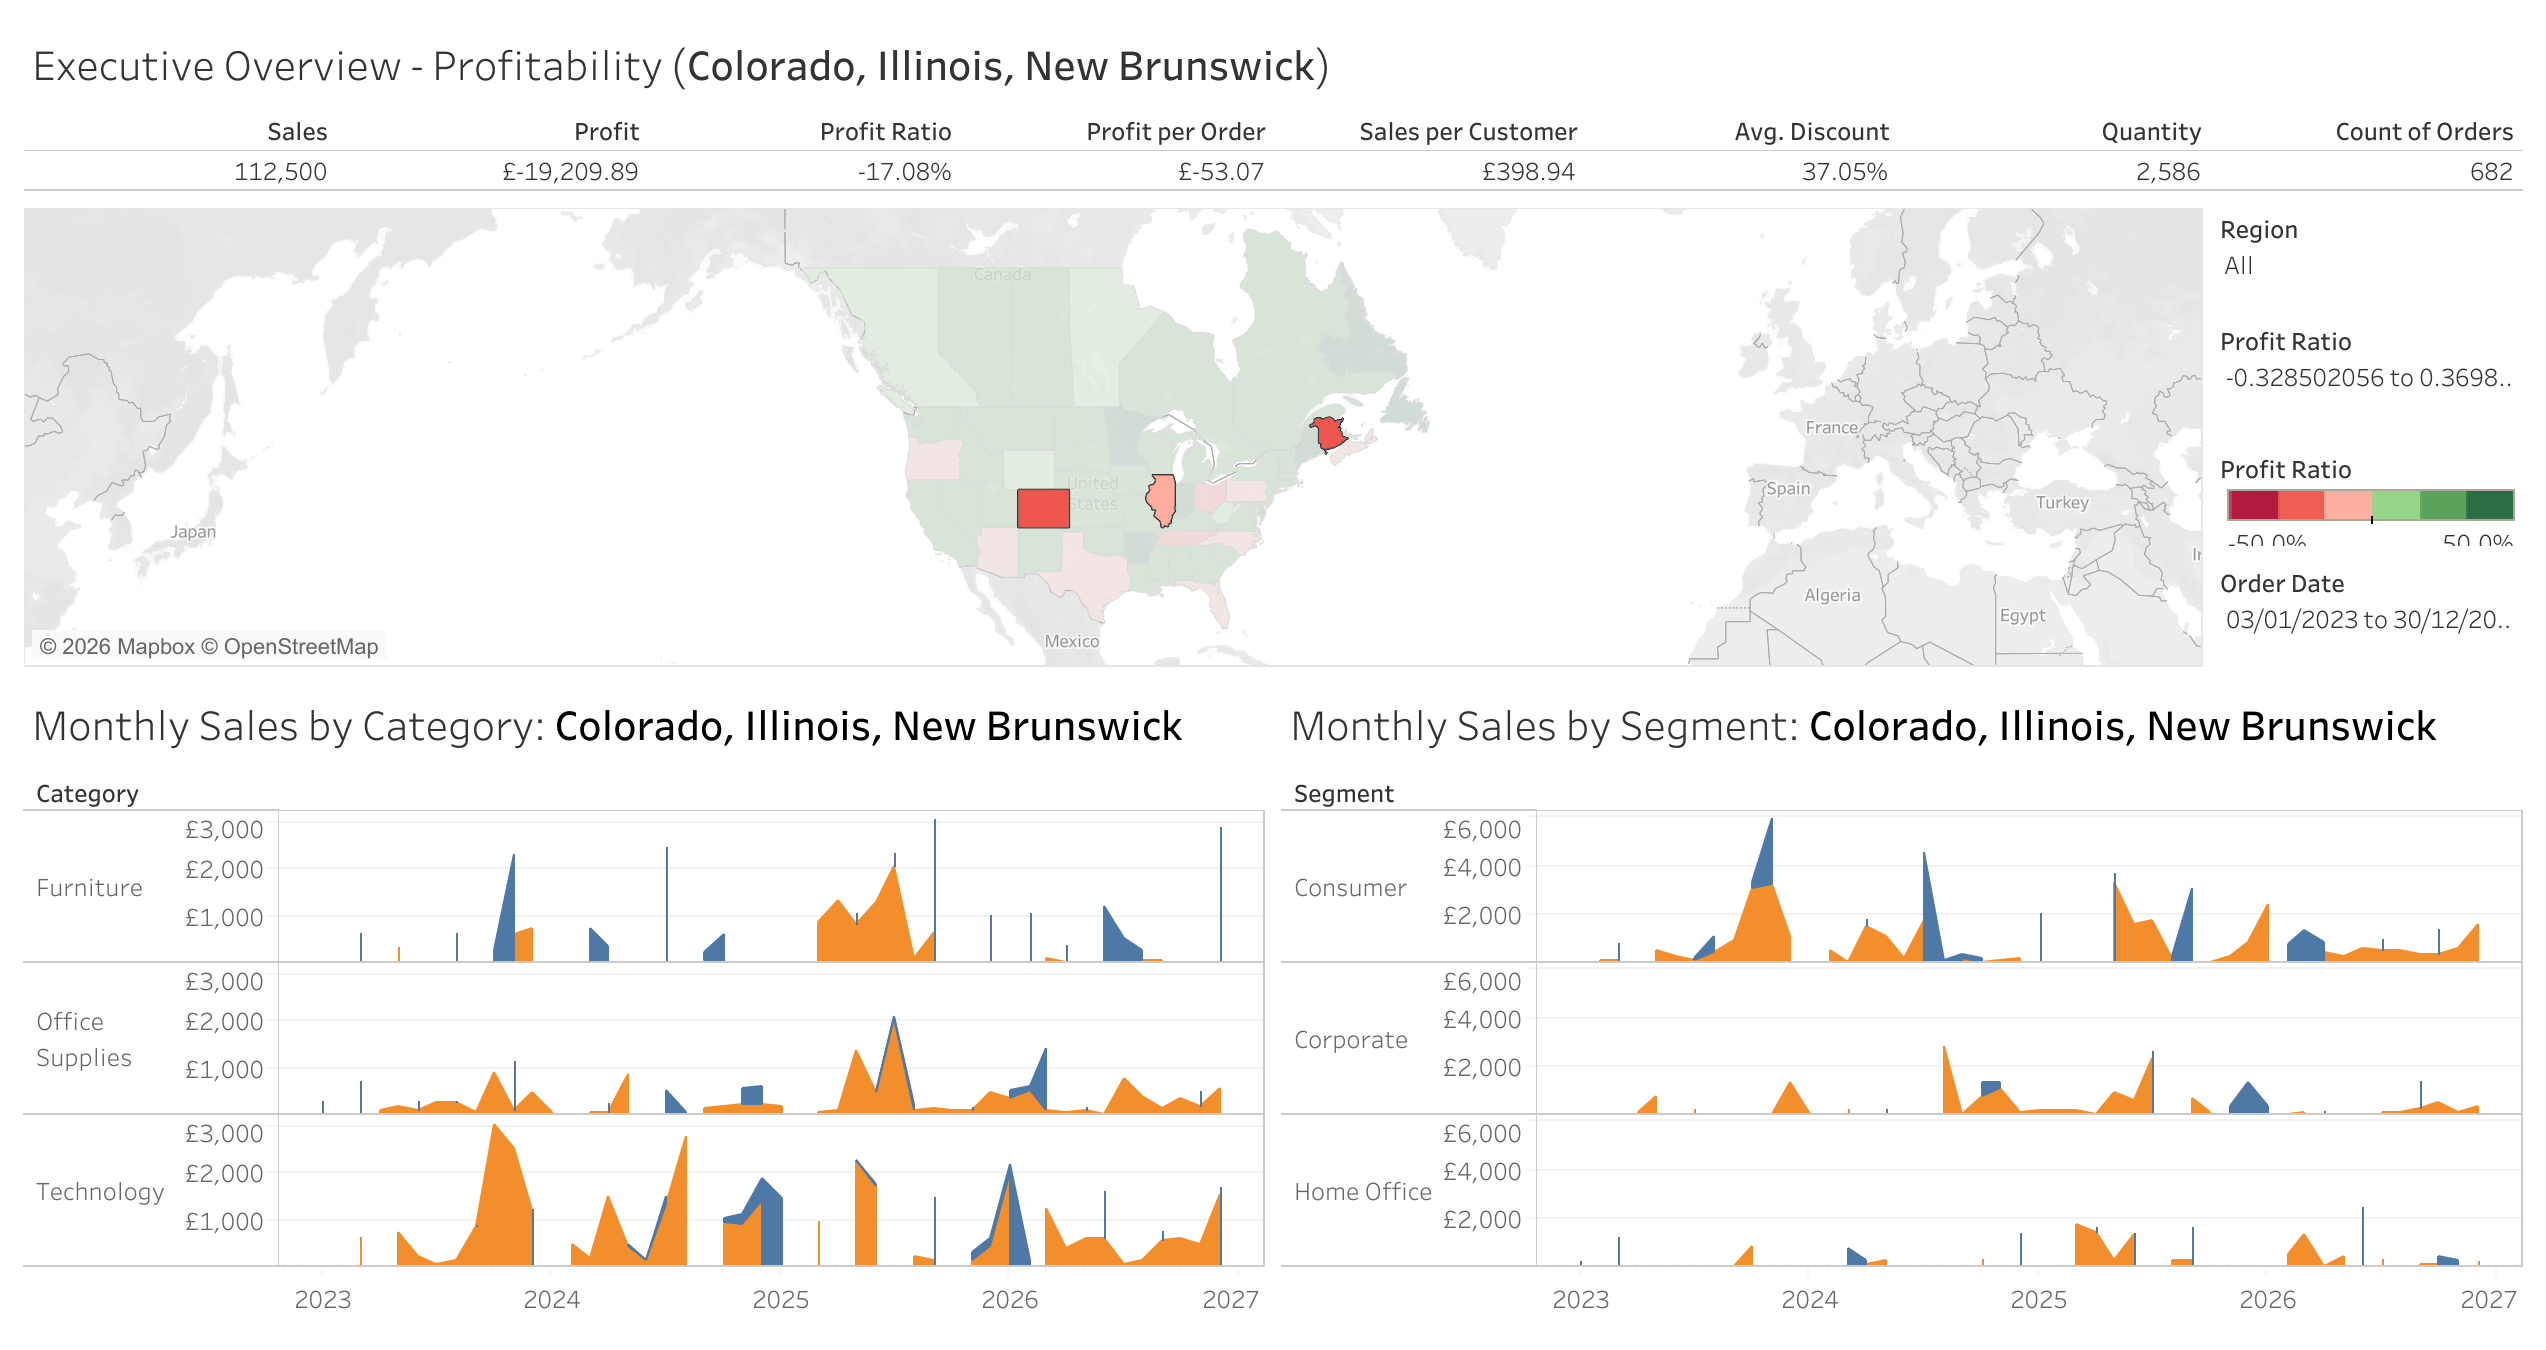

This screenshot's page, from the dashboard's own definition file:
{"tool":"tableau","page":{"name":"Executive Overview","canvas":[1000,1000],"units":"permille","ordinal":0},"visuals":[{"type":"worksheet","title":"Key Performance Indicators","mark":"Automatic","box":[6.6,11.8,986.8,135.1]},{"type":"worksheet","title":"Profit Ratio by Geography","mark":"Automatic","box":[6.6,146.8,854.4,353.2]},{"type":"filter","title":"Profit Ratio by Geography","param":"[federated.1xrb1ig0scf6ov1fjsrsw0xfbv0v].[none:Region:nk]","box":[861,146.8,132.3,82.2]},{"type":"filter","title":"Profit Ratio by Geography","param":"[federated.1xrb1ig0scf6ov1fjsrsw0xfbv0v].[usr:Calculation_0014784156213293:qk]","box":[861,229.1,132.3,90.3]},{"type":"legend","title":"Profit Ratio by Geography","param":"[federated.1xrb1ig0scf6ov1fjsrsw0xfbv0v].[usr:Calculation_0014784156213293:qk]","box":[861,319.4,132.3,90.3]},{"type":"filter","title":"Sales by Category","param":"[federated.1xrb1ig0scf6ov1fjsrsw0xfbv0v].[none:Order Date:qk]","box":[861,409.7,132.3,90.3]},{"type":"worksheet","title":"Sales by Category","mark":"Area","rows":["Category","Sales"],"cols":["Order Date"],"box":[6.6,500,493.4,488.2]},{"type":"worksheet","title":"Sales by Segment","mark":"Area","rows":["Segment","Sales"],"cols":["Order Date"],"box":[500,500,493.4,488.2]}]}

Visuals, with their boxes on the dashboard's canvas, which has no fixed pixel size, in thousandths of its width and height (x1, y1, x2, y2). These are canvas units, not pixel positions in the 2546x1350 screenshot, which may show the page scaled, cropped or inside an application window:
"Key Performance Indicators" worksheet: {"left": 7, "top": 12, "right": 993, "bottom": 147}
"Profit Ratio by Geography" worksheet: {"left": 7, "top": 147, "right": 861, "bottom": 500}
"Profit Ratio by Geography" filter: {"left": 861, "top": 147, "right": 993, "bottom": 229}
"Profit Ratio by Geography" filter: {"left": 861, "top": 229, "right": 993, "bottom": 319}
"Profit Ratio by Geography" legend: {"left": 861, "top": 319, "right": 993, "bottom": 410}
"Sales by Category" filter: {"left": 861, "top": 410, "right": 993, "bottom": 500}
"Sales by Category" worksheet (Area marks): {"left": 7, "top": 500, "right": 500, "bottom": 988}
"Sales by Segment" worksheet (Area marks): {"left": 500, "top": 500, "right": 993, "bottom": 988}
